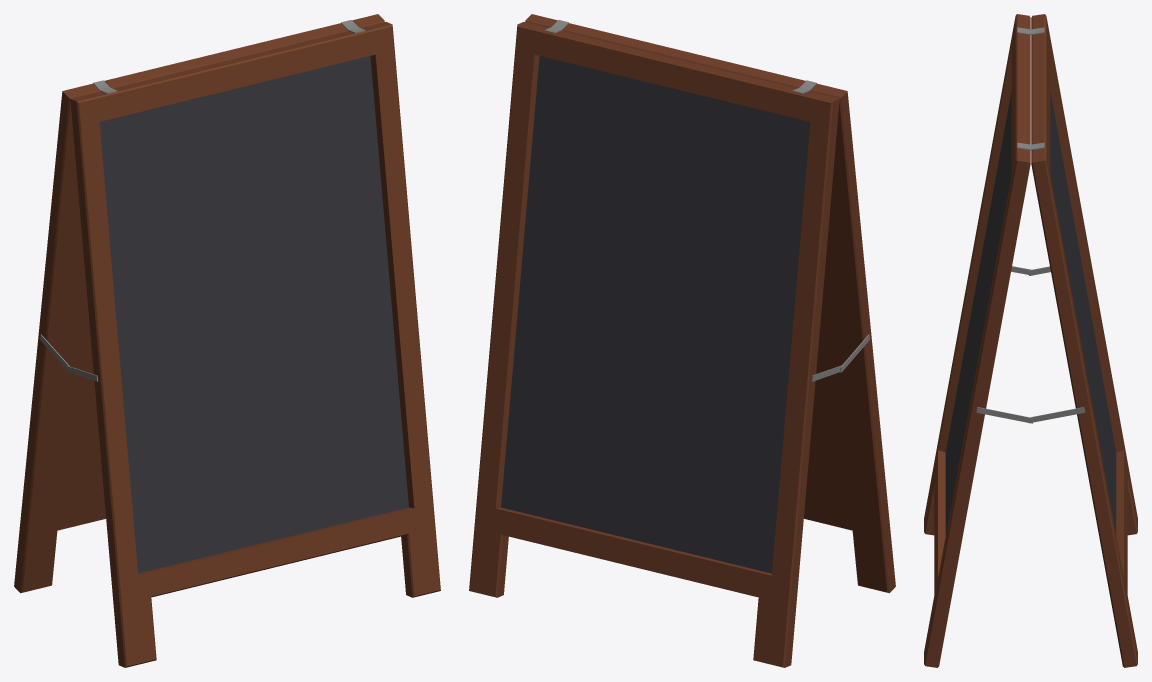
3 views of the same model, side by side, from view 1: azimuth 30°, elevation 25°; view 2: azimuth 150°, elevation 25°; view 3: azimuth 270°, elevation 25° (orthographic). The views are drawn at different scales.
Parts seen in each view (by area): view 1: SM_Advertise; view 2: SM_Advertise; view 3: SM_Advertise.
Boxes of the visible parts, x1=… form: SM_Advertise: x1=14, y1=14, x2=440, y2=667; SM_Advertise: x1=469, y1=14, x2=895, y2=667; SM_Advertise: x1=924, y1=14, x2=1137, y2=667.
Bounding box in the file's own units: 0.7392 × 1.18 × 0.4499.
